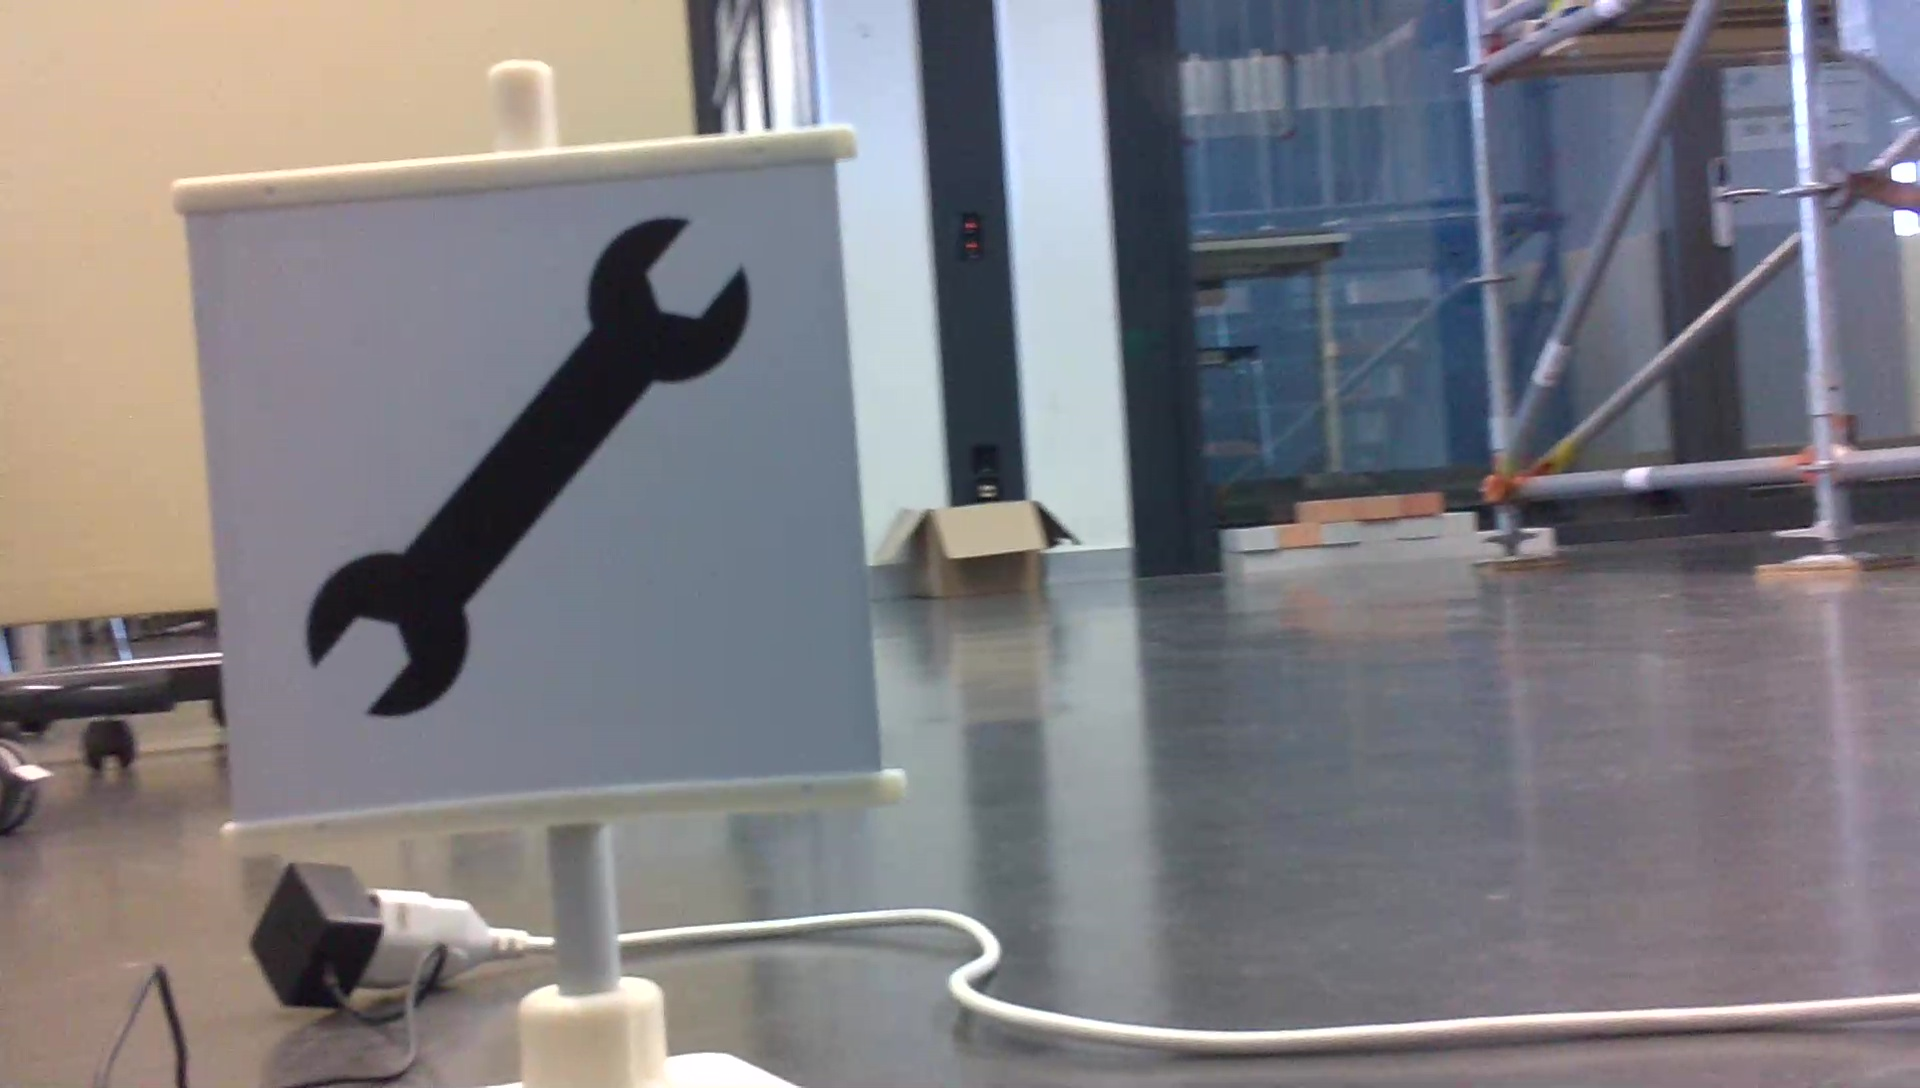wrench: (291, 203, 756, 728)
